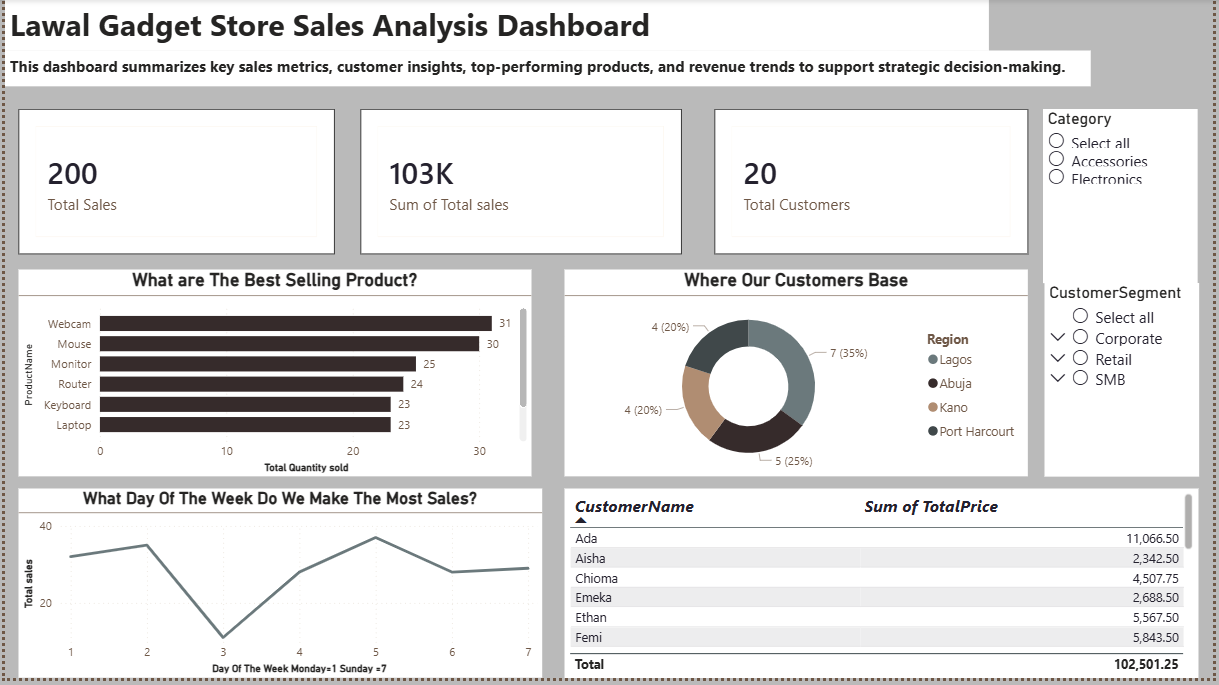

The dashboard page shown, as its layout file describes it:
{"tool":"powerbi","page":{"name":"Page 3","canvas":[1280,720],"ordinal":2},"visuals":[{"type":"textbox","box":[0,0,1043.4,55.7],"z":1000},{"type":"textbox","box":[0,55.7,1151.6,38.2],"z":2000},{"type":"cardVisual","fields":{"Data":["CountNonNull(Sales.SaleID)"]},"box":[14.3,117.7,335.6,154.3],"z":2001},{"type":"cardVisual","fields":{"Data":["Sales.Total sales"]},"box":[377,117.7,340.4,154.3],"z":2002},{"type":"cardVisual","fields":{"Data":["Customers.Customer count"]},"box":[752.4,117.7,332.4,154.3],"z":2003},{"type":"barChart","title":"What are The Best Selling Product?","fields":{"Category":["Products.ProductName"],"Y":["CountNonNull(Sales.SaleID)"]},"box":[14.3,287.9,544,219.5],"z":2004},{"type":"donutChart","title":"Where Our Customers Base","fields":{"Category":["Customers.Region"],"Y":["CountNonNull(Customers.Region)"]},"box":[593.3,287.9,491.5,219.5],"z":2005},{"type":"lineChart","title":"What Day Of The Week Do We Make The Most Sales?","fields":{"Category":["Sales.Day of the week"],"Y":["CountNonNull(Sales.SaleID)"]},"box":[14.3,520.1,555.1,200.4],"z":2006},{"type":"tableEx","fields":{"Values":["Customers.CustomerName","Sum(Sales.TotalPrice)"]},"box":[593.3,520.1,671.2,200.4],"z":2007},{"type":"listSlicer","fields":{"Values":["Products.Category"]},"box":[1100.7,117.7,163.8,184.5],"z":2008},{"type":"listSlicer","fields":{"Values":["Customers.CustomerSegment","Customers.CustomerSegment"]},"box":[1102.3,302.2,163.8,205.2],"z":2009}]}

Visuals, with their boxes in screenshot pixels (x1, y1, x2, y2), scaled from the page's 1280x720 canvas onto the 1219x685 screenshot:
textbox: box(0, 0, 994, 53)
textbox: box(0, 53, 1097, 89)
cardVisual - CountNonNull(Sales.SaleID): box(14, 112, 333, 259)
cardVisual - Sales.Total sales: box(359, 112, 683, 259)
cardVisual - Customers.Customer count: box(717, 112, 1033, 259)
"What are The Best Selling Product?" barChart: box(14, 274, 532, 483)
"Where Our Customers Base" donutChart: box(565, 274, 1033, 483)
"What Day Of The Week Do We Make The Most Sales?" lineChart: box(14, 495, 542, 684)
tableEx - Customers.CustomerName x Sum(Sales.TotalPrice): box(565, 495, 1204, 684)
listSlicer - Products.Category: box(1048, 112, 1204, 288)
listSlicer - Customers.CustomerSegment x Customers.CustomerSegment: box(1050, 288, 1206, 483)
